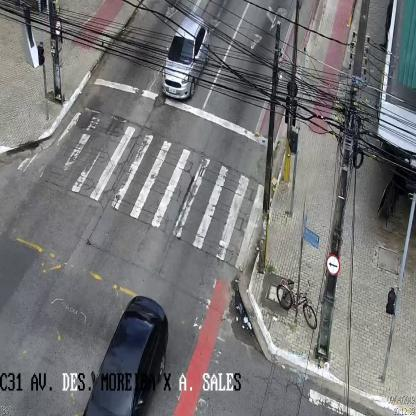bicycle: (276, 278, 316, 331)
car: (83, 296, 168, 416), (160, 14, 209, 100)
